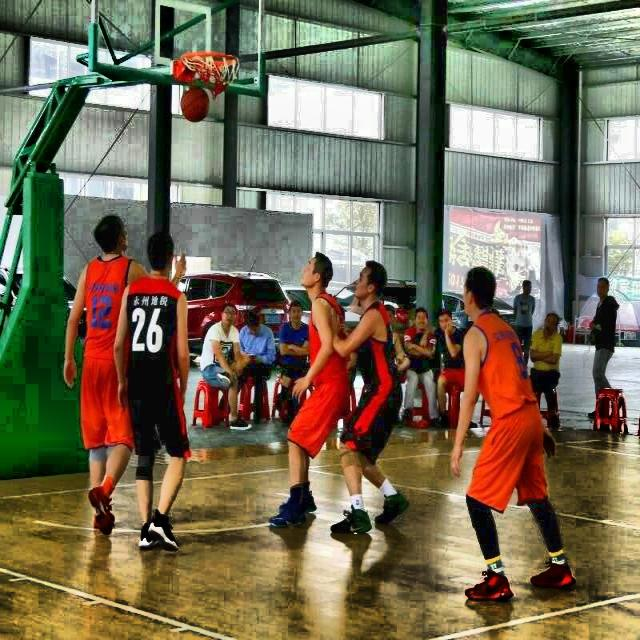board: (180, 86, 209, 122)
